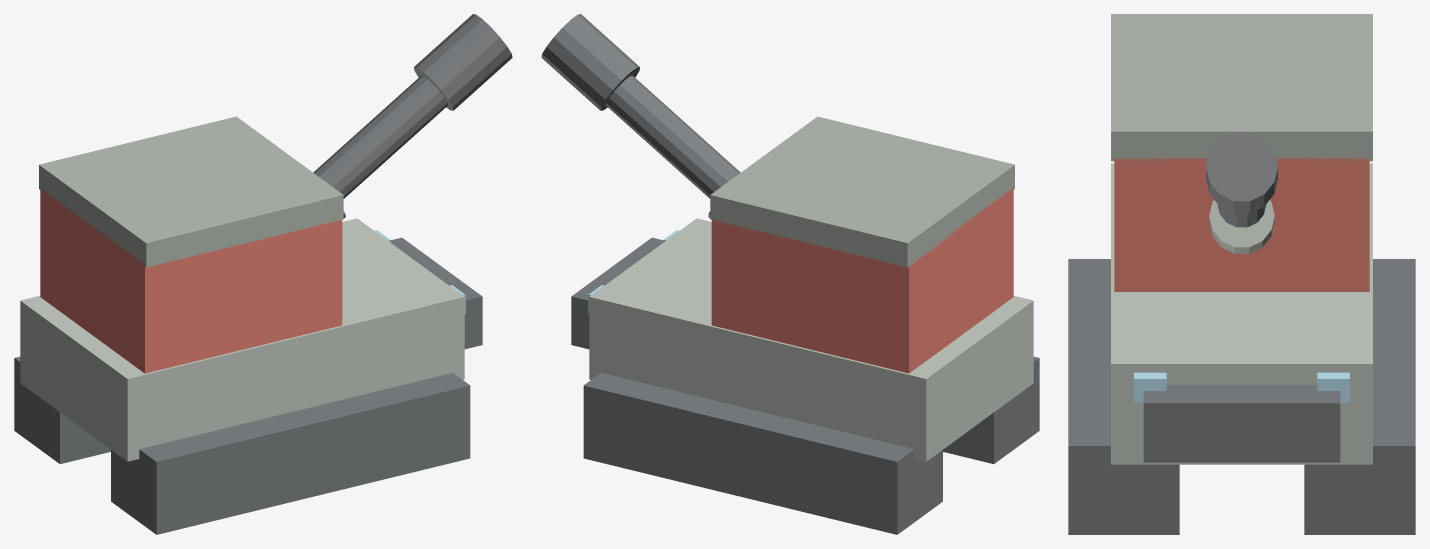
The model's file is spg_red.glb.
3 renders of one model, left to right at view 1: azimuth 30°, elevation 25°; view 2: azimuth 150°, elevation 25°; view 3: azimuth 270°, elevation 25°, orthographic. The views are drawn at different scales.
Visible parts, largest first — view 1: part02, part03, part00, part04, part05, part06, part01, part08; view 2: part02, part03, part01, part04, part05, part06, part00, part08; view 3: part04, part02, part03, part00, part01, part08, part06, part07, part09, part10, part05.
Boxes of the visible parts, bbox=[...] form: part02: bbox=[20, 218, 464, 461]; part03: bbox=[40, 188, 342, 373]; part00: bbox=[111, 372, 470, 534]; part04: bbox=[39, 116, 343, 267]; part05: bbox=[313, 75, 447, 198]; part06: bbox=[414, 14, 512, 110]; part01: bbox=[14, 356, 110, 464]; part08: bbox=[390, 237, 482, 349]; part02: bbox=[589, 218, 1033, 461]; part03: bbox=[711, 188, 1013, 373]; part01: bbox=[583, 372, 942, 534]; part04: bbox=[710, 116, 1014, 267]; part05: bbox=[606, 75, 740, 198]; part06: bbox=[541, 14, 639, 110]; part00: bbox=[943, 356, 1039, 464]; part08: bbox=[571, 237, 663, 349]; part04: bbox=[1111, 14, 1372, 161]; part02: bbox=[1111, 163, 1372, 464]; part03: bbox=[1114, 158, 1369, 291]; part00: bbox=[1068, 259, 1179, 534]; part01: bbox=[1304, 259, 1415, 534]; part08: bbox=[1143, 384, 1340, 462]; part06: bbox=[1206, 131, 1277, 213]; part07: bbox=[1209, 200, 1274, 253]; part09: bbox=[1134, 372, 1166, 402]; part10: bbox=[1317, 372, 1349, 402]; part05: bbox=[1217, 204, 1266, 227].
Bounding box in the file's own units: 1.86 × 1.52 × 1.06.
